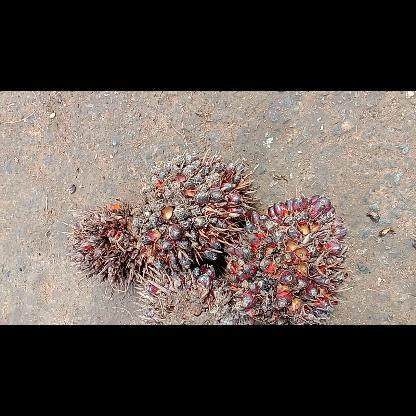TBS abnormal: (224, 194, 348, 324), (133, 150, 255, 270), (62, 202, 146, 294), (136, 264, 252, 324)
